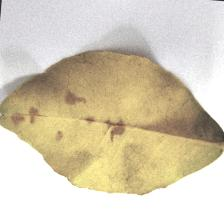canker: (7, 78, 166, 176)
